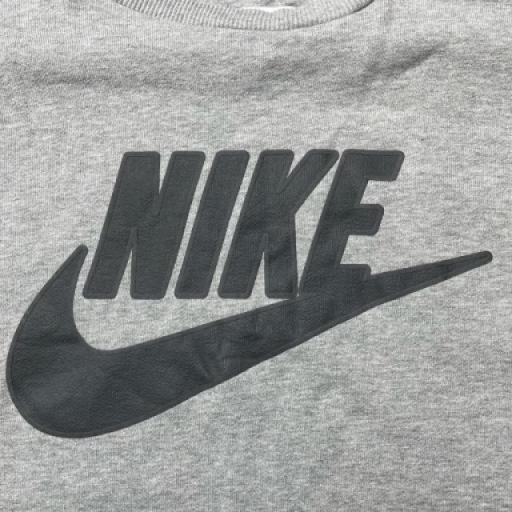Nike: (7, 258, 470, 440), (83, 145, 410, 305)
